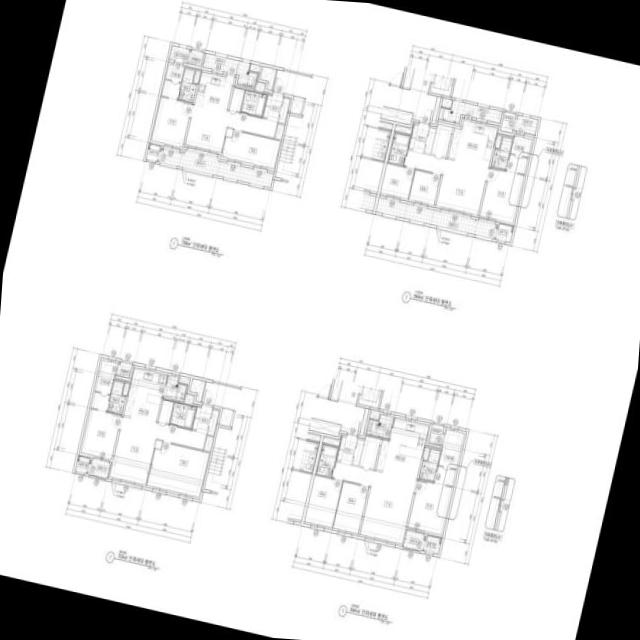background: (0, 0, 640, 640)
space_balconi: (375, 197, 497, 239), (157, 148, 273, 187), (202, 53, 257, 87), (438, 100, 502, 123), (366, 414, 393, 439), (163, 375, 186, 402), (514, 115, 538, 135), (403, 530, 425, 551), (87, 458, 110, 478), (168, 45, 189, 63)
space_bedroom: (146, 442, 209, 497), (407, 480, 452, 535), (479, 168, 524, 223), (222, 130, 279, 168), (80, 409, 121, 459), (151, 97, 192, 147), (304, 475, 342, 527), (333, 482, 368, 533), (380, 163, 414, 199), (409, 170, 440, 205)
space_dressroom: (434, 429, 464, 486), (91, 360, 117, 411), (506, 135, 532, 174), (161, 63, 184, 99)
space_front: (262, 92, 289, 123), (191, 404, 218, 435), (336, 434, 357, 464), (408, 123, 429, 153)
space_kitchen: (375, 417, 429, 479), (123, 367, 167, 422), (447, 120, 497, 167), (194, 72, 234, 110)
space_living_room: (332, 462, 416, 544), (109, 416, 206, 485), (404, 150, 488, 215), (185, 103, 277, 152)
space_other: (431, 124, 452, 157), (359, 436, 380, 469), (189, 378, 205, 402), (260, 66, 276, 90), (229, 87, 244, 112), (158, 399, 173, 424), (500, 112, 516, 133), (428, 424, 444, 445), (424, 127, 436, 154), (352, 439, 364, 465), (431, 96, 441, 124), (359, 408, 369, 435), (187, 50, 203, 66), (116, 362, 132, 378), (219, 408, 233, 426), (289, 96, 303, 114), (322, 437, 339, 446), (394, 126, 411, 134), (274, 124, 283, 139), (204, 436, 212, 451), (441, 98, 452, 108), (249, 64, 261, 73), (422, 447, 429, 460), (494, 135, 501, 148), (183, 395, 193, 404), (254, 83, 264, 92), (193, 71, 200, 83), (122, 383, 129, 395), (178, 377, 189, 384), (370, 412, 379, 420)
space_outdoor_room: (495, 223, 513, 243), (423, 535, 441, 554), (145, 143, 160, 161), (74, 455, 89, 473)
space_toilet: (316, 444, 338, 477), (388, 132, 410, 165), (491, 136, 512, 170), (240, 90, 266, 117), (419, 448, 440, 481), (170, 402, 195, 428), (107, 380, 125, 414), (178, 68, 196, 102)
